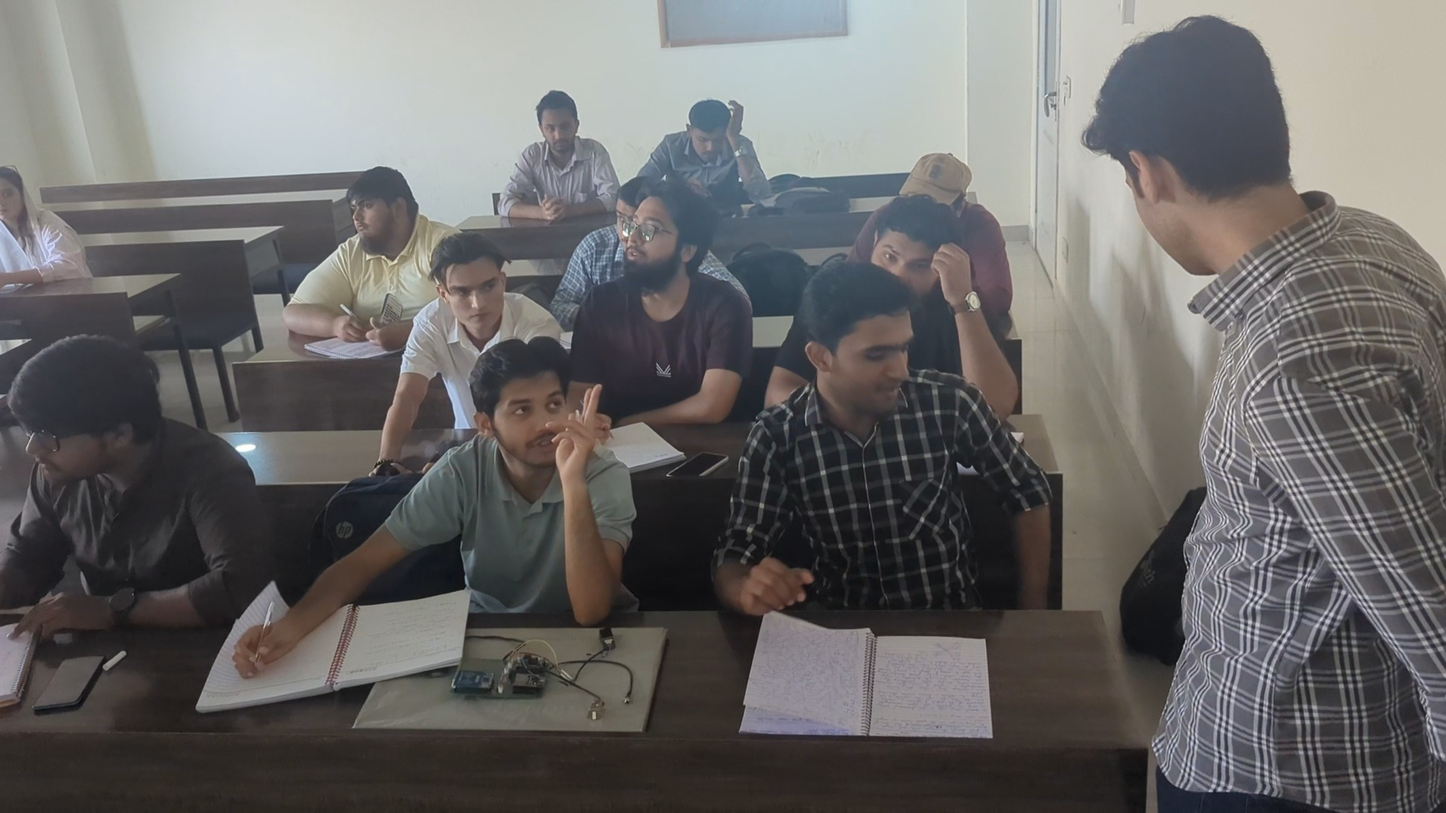look_forward: (0, 315, 228, 598), (610, 188, 728, 338), (0, 152, 117, 302), (506, 89, 618, 213), (409, 243, 534, 349), (316, 166, 425, 282), (867, 204, 984, 295), (575, 178, 634, 242)
read: (665, 94, 793, 208)
stand: (1062, 40, 1441, 808)
turn_head: (396, 334, 671, 587), (756, 245, 1000, 510)
